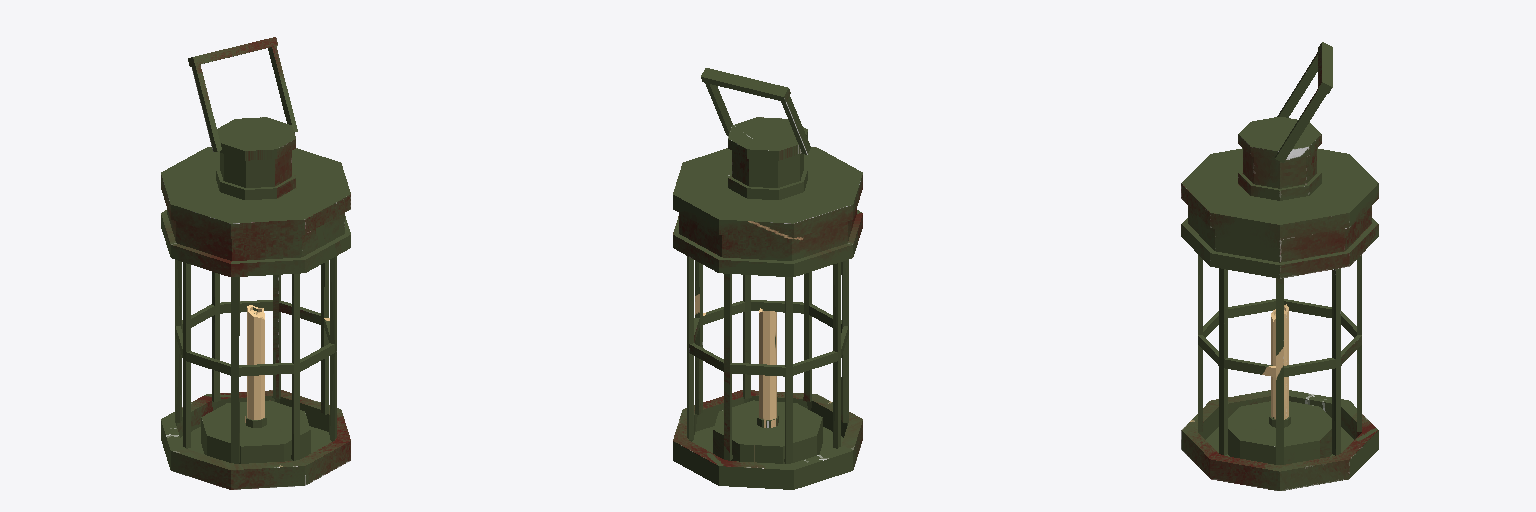
3 renders of one model, left to right at view 1: azimuth 30°, elevation 25°; view 2: azimuth 150°, elevation 25°; view 3: azimuth 270°, elevation 25°, orthographic.
Parts seen in each view (by area): view 1: Cylinder_Cylinder.039_None, Handle1.005_Cube.019_Material.001, candle_Cylinder.040_None; view 2: Cylinder_Cylinder.039_None, Handle1.005_Cube.019_Material.001, candle_Cylinder.040_None; view 3: Cylinder_Cylinder.039_None, Handle1.005_Cube.019_Material.001, candle_Cylinder.040_None.
Part boxes in pixels (bbox=[...]): Cylinder_Cylinder.039_None: bbox=[161, 117, 350, 489]; Handle1.005_Cube.019_Material.001: bbox=[188, 37, 297, 151]; candle_Cylinder.040_None: bbox=[247, 305, 264, 419]; Cylinder_Cylinder.039_None: bbox=[673, 117, 862, 489]; Handle1.005_Cube.019_Material.001: bbox=[701, 68, 810, 154]; candle_Cylinder.040_None: bbox=[759, 308, 776, 419]; Cylinder_Cylinder.039_None: bbox=[1181, 117, 1378, 490]; Handle1.005_Cube.019_Material.001: bbox=[1275, 42, 1332, 162]; candle_Cylinder.040_None: bbox=[1271, 304, 1288, 419].
Bounding box in the file's own units: 0.3434 × 0.7457 × 0.3435.
2 materials, 2 textured.